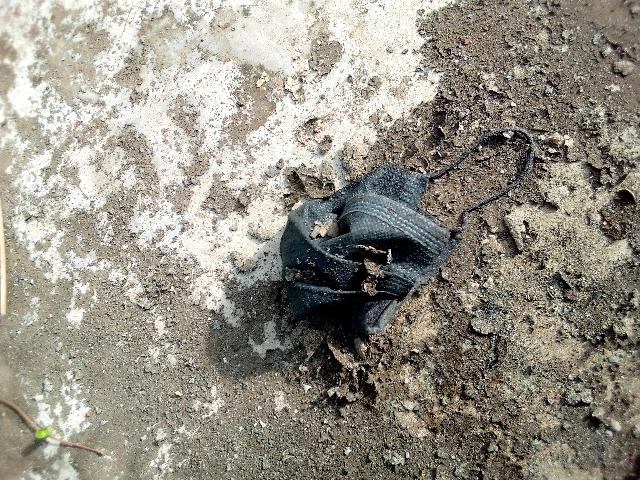mask: (254, 196, 517, 355)
